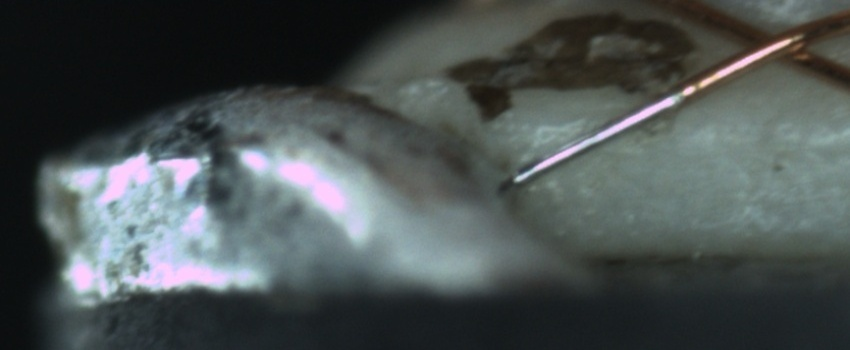CL: (717, 9, 828, 76)
DL: (679, 109, 850, 173)
TS: (500, 90, 688, 188)
